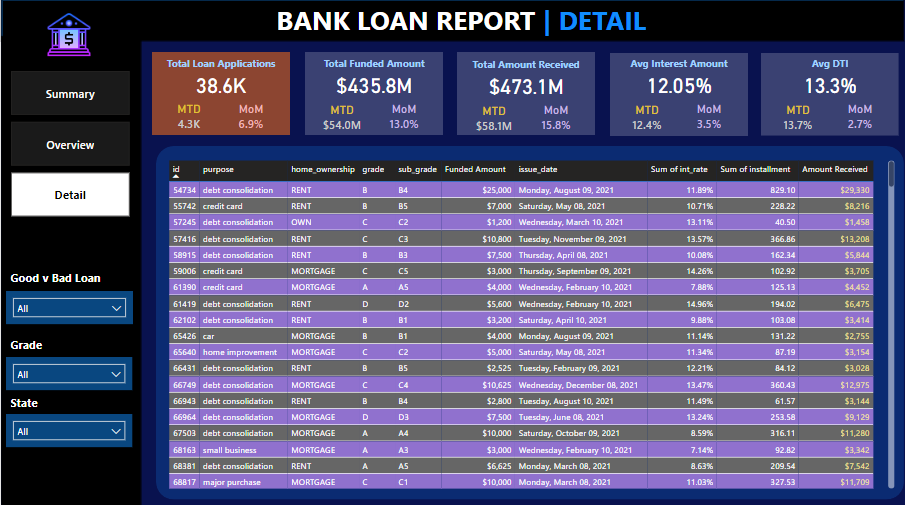

This screenshot's page, from the dashboard's own definition file:
{"tool":"powerbi","page":{"name":"Detail","canvas":[1280,720],"ordinal":2},"visuals":[{"type":"shape","box":[0,1.7,1280,60.5],"z":0},{"type":"shape","box":[214.1,76.5,195.6,117.6],"z":0,"group":"g1"},{"type":"shape","box":[0,54.1,198.6,666.2],"z":1000},{"type":"card","fields":{"Values":["_Measure.Total_Loan_Applications"]},"box":[214.1,103.8,195.5,37.6],"z":1000,"group":"g1"},{"type":"card","fields":{"Values":["_Measure.Total_Fund"]},"box":[430.6,103.8,195.5,37.6],"z":1000,"group":"g2"},{"type":"card","fields":{"Values":["_Measure.Avg_Interest"]},"box":[862.9,103.9,195.5,37.6],"z":1000,"group":"g4"},{"type":"card","fields":{"Values":["_Measure.AVG_DTI"]},"box":[1077,104.3,195.5,37.6],"z":1000,"group":"g5"},{"type":"card","fields":{"Values":["_Measure.Total_Payment"]},"box":[646.2,105.9,195.5,37.6],"z":1000,"group":"g3"},{"type":"shape","box":[430.9,76.5,195.6,117.6],"z":2000},{"type":"textbox","box":[213.8,77.7,195.8,34.4],"z":2000,"group":"g1"},{"type":"textbox","box":[430.3,77.8,195.8,34.4],"z":2000,"group":"g2"},{"type":"textbox","box":[862.6,77.9,195.8,34.4],"z":2000,"group":"g4"},{"type":"textbox","box":[1076.7,78.3,195.8,34.4],"z":2000,"group":"g5"},{"type":"textbox","box":[645.9,79.9,195.8,34.4],"z":2000,"group":"g3"},{"type":"shape","box":[646.3,76.5,195.6,117.6],"z":3000},{"type":"card","title":"MTD","fields":{"Values":["_Measure.MTD_Loan_Applications"]},"box":[214,148,105,46.5],"z":3000,"group":"g1"},{"type":"card","title":"MTD","fields":{"Values":["_Measure.MTD_Fund"]},"box":[430.5,148,105,46.5],"z":3000,"group":"g2"},{"type":"card","title":"MTD","fields":{"Values":["_Measure.MTD_interest"]},"box":[862.8,148.1,105,46.5],"z":3000,"group":"g4"},{"type":"card","title":"MTD","fields":{"Values":["_Measure.MTD_DTI"]},"box":[1076.9,148.5,105,46.5],"z":3000,"group":"g5"},{"type":"card","title":"MTD","fields":{"Values":["_Measure.MTD_Payment"]},"box":[646.1,150.1,105,46.5],"z":3000,"group":"g3"},{"type":"shape","box":[863.1,78,195.6,117.6],"z":4000},{"type":"card","title":"MoM","fields":{"Values":["_Measure.MoM_Loan_Applications"]},"box":[299.1,147.4,110.6,46.8],"z":4000,"group":"g1"},{"type":"card","title":"MoM","fields":{"Values":["_Measure.MoM_Fund"]},"box":[515.6,147.4,110.6,46.8],"z":4000,"group":"g2"},{"type":"card","title":"MoM","fields":{"Values":["_Measure.MoM_Interest"]},"box":[947.9,147.5,110.6,46.8],"z":4000,"group":"g4"},{"type":"card","title":"MoM","fields":{"Values":["_Measure.MoM_DTI"]},"box":[1162,147.9,110.6,46.8],"z":4000,"group":"g5"},{"type":"card","title":"MoM","fields":{"Values":["_Measure.MoM_Payment"]},"box":[731.2,149.5,110.6,46.8],"z":4000,"group":"g3"},{"type":"shape","box":[1077.2,78,195,117],"z":5000},{"type":"textbox","box":[385.5,0,620.8,62.4],"z":6000},{"type":"slicer","fields":{"Values":["financial_loan.Good v Bad Loan"]},"box":[7.1,415.5,179.5,47.3],"z":7000},{"type":"textbox","box":[8.5,379.8,171.5,32.6],"z":8000},{"type":"textbox","box":[7.8,556.3,171.6,33.8],"z":9000},{"type":"slicer","fields":{"Values":["financial_loan.address_state"]},"box":[7.8,590.1,178.8,47.3],"z":10000},{"type":"textbox","box":[7.8,474.2,171.6,33.8],"z":11000},{"type":"slicer","fields":{"Values":["financial_loan.grade"]},"box":[7.8,508.1,178.8,47],"z":12000},{"type":"group","id":"g1","title":"Group 1","box":[213.8,76.5,195.8,118],"z":13000},{"type":"group","id":"g2","title":"Group 2","box":[430.3,77.8,196,117.2],"z":14000},{"type":"group","id":"g3","title":"Group 2","box":[645.9,79.9,196.7,116.7],"z":15000},{"type":"group","id":"g4","title":"Group 2","box":[862.6,77.9,196.3,116.6],"z":16000},{"type":"group","id":"g5","title":"Group 2","box":[1076.7,78.3,196.7,116.7],"z":17000},{"type":"shape","box":[219.2,210.3,1060.3,501.3],"z":18000},{"type":"tableEx","fields":{"Values":["financial_loan.id","financial_loan.Purpose","financial_loan.home_ownership","financial_loan.grade","financial_loan.sub_grade","_Measure.Total Funded Amount","financial_loan.issue_date","Sum(financial_loan.int_rate)","Sum(financial_loan.installment)","_Measure.Total Amount Received"]},"box":[232.1,225,1039.3,475],"z":19000},{"type":"pageNavigator","box":[14.7,103.4,168.1,207.8],"z":19002},{"type":"image","box":[53.4,8.6,85.3,86.2],"z":19003}]}

Visuals, with their boxes in screenshot pixels (x1, y1, x2, y2), scaled from the page's 1280x720 canvas onto the 905x505 screenshot:
shape: pyautogui.locateOnScreen(0, 1, 904, 44)
shape: pyautogui.locateOnScreen(151, 54, 290, 136)
shape: pyautogui.locateOnScreen(0, 38, 140, 504)
card - _Measure.Total_Loan_Applications: pyautogui.locateOnScreen(151, 73, 290, 99)
card - _Measure.Total_Fund: pyautogui.locateOnScreen(304, 73, 443, 99)
card - _Measure.Avg_Interest: pyautogui.locateOnScreen(610, 73, 748, 99)
card - _Measure.AVG_DTI: pyautogui.locateOnScreen(761, 73, 900, 100)
card - _Measure.Total_Payment: pyautogui.locateOnScreen(457, 74, 595, 101)
shape: pyautogui.locateOnScreen(305, 54, 443, 136)
textbox: pyautogui.locateOnScreen(151, 54, 290, 79)
textbox: pyautogui.locateOnScreen(304, 55, 443, 79)
textbox: pyautogui.locateOnScreen(610, 55, 748, 79)
textbox: pyautogui.locateOnScreen(761, 55, 900, 79)
textbox: pyautogui.locateOnScreen(457, 56, 595, 80)
shape: pyautogui.locateOnScreen(457, 54, 595, 136)
"MTD" card: pyautogui.locateOnScreen(151, 104, 226, 136)
"MTD" card: pyautogui.locateOnScreen(304, 104, 379, 136)
"MTD" card: pyautogui.locateOnScreen(610, 104, 684, 136)
"MTD" card: pyautogui.locateOnScreen(761, 104, 836, 137)
"MTD" card: pyautogui.locateOnScreen(457, 105, 531, 138)
shape: pyautogui.locateOnScreen(610, 55, 749, 137)
"MoM" card: pyautogui.locateOnScreen(211, 103, 290, 136)
"MoM" card: pyautogui.locateOnScreen(365, 103, 443, 136)
"MoM" card: pyautogui.locateOnScreen(670, 103, 748, 136)
"MoM" card: pyautogui.locateOnScreen(822, 104, 900, 137)
"MoM" card: pyautogui.locateOnScreen(517, 105, 595, 138)
shape: pyautogui.locateOnScreen(762, 55, 899, 137)
textbox: pyautogui.locateOnScreen(273, 0, 711, 44)
slicer - financial_loan.Good v Bad Loan: pyautogui.locateOnScreen(5, 291, 132, 325)
textbox: pyautogui.locateOnScreen(6, 266, 127, 289)
textbox: pyautogui.locateOnScreen(6, 390, 127, 414)
slicer - financial_loan.address_state: pyautogui.locateOnScreen(6, 414, 132, 447)
textbox: pyautogui.locateOnScreen(6, 333, 127, 356)
slicer - financial_loan.grade: pyautogui.locateOnScreen(6, 356, 132, 389)
"Group 1" group: pyautogui.locateOnScreen(151, 54, 290, 136)
"Group 2" group: pyautogui.locateOnScreen(304, 55, 443, 137)
"Group 2" group: pyautogui.locateOnScreen(457, 56, 596, 138)
"Group 2" group: pyautogui.locateOnScreen(610, 55, 749, 136)
"Group 2" group: pyautogui.locateOnScreen(761, 55, 900, 137)
shape: pyautogui.locateOnScreen(155, 148, 904, 499)
tableEx - financial_loan.id x financial_loan.Purpose: pyautogui.locateOnScreen(164, 158, 899, 491)
pageNavigator: pyautogui.locateOnScreen(10, 73, 129, 218)
image: pyautogui.locateOnScreen(38, 6, 98, 66)
